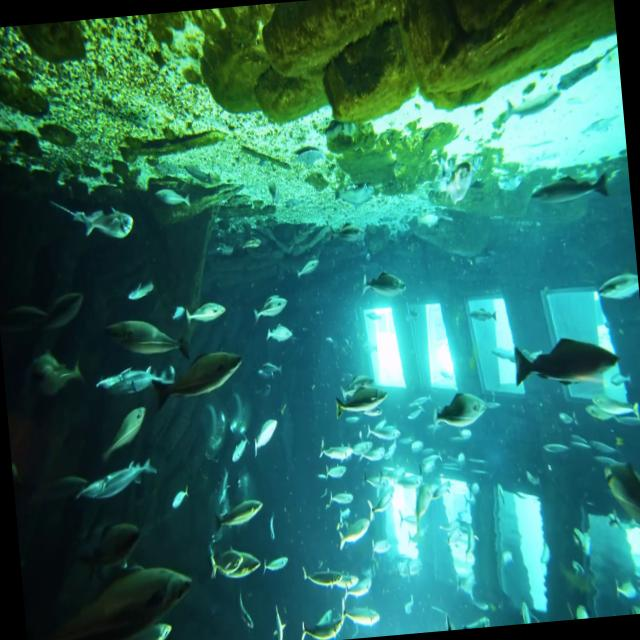fish: (146, 348, 246, 407), (512, 336, 618, 384), (69, 458, 159, 504), (92, 356, 180, 400), (523, 164, 610, 207), (206, 538, 264, 584), (432, 386, 488, 431), (210, 499, 268, 538), (333, 381, 388, 420), (359, 267, 408, 300), (182, 295, 227, 326), (250, 291, 290, 325), (250, 416, 282, 458), (298, 560, 342, 590)
